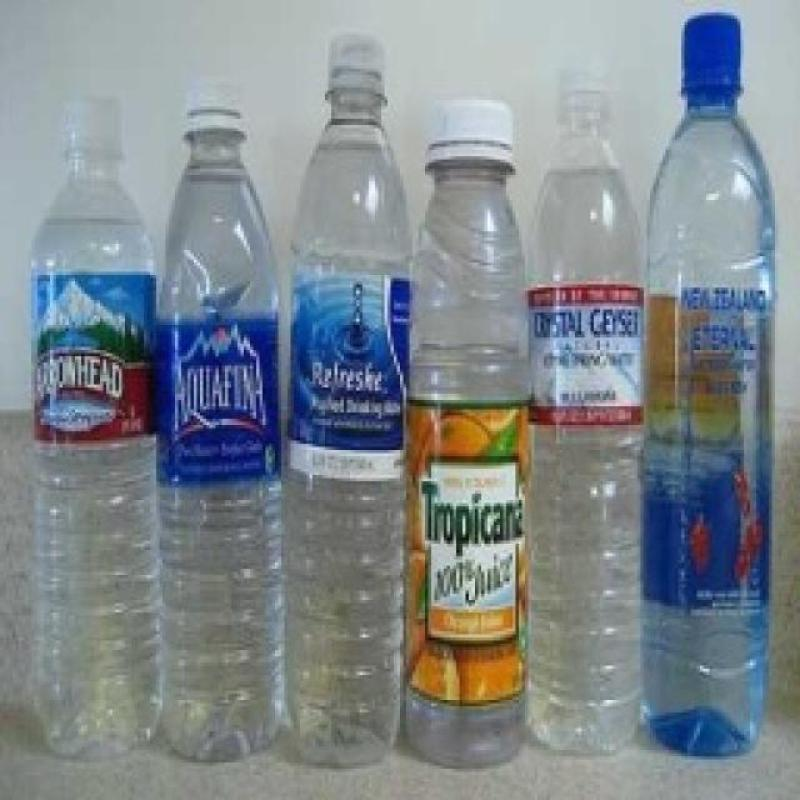botella: (641, 15, 778, 760), (26, 100, 164, 756), (286, 25, 408, 766), (154, 83, 284, 768), (528, 57, 644, 762), (410, 100, 528, 769)
